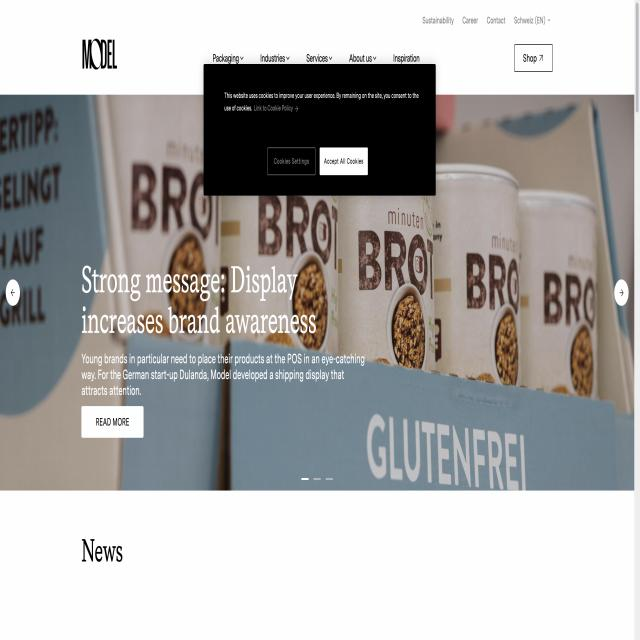Logo: (69, 24, 131, 87)
Navigation: (206, 27, 429, 77)
